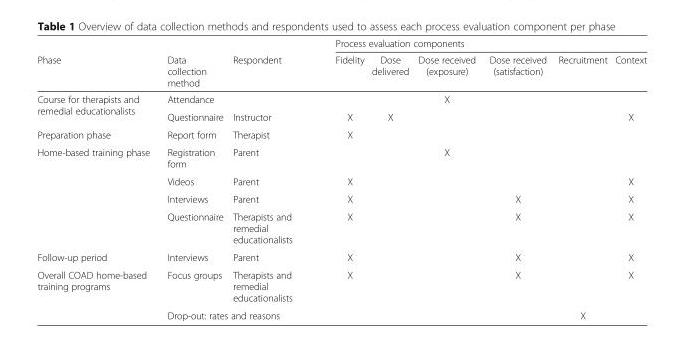table: (36, 37, 646, 320)
table column: (36, 37, 157, 320), (227, 37, 313, 320), (157, 37, 227, 320), (481, 37, 551, 320), (412, 37, 481, 320), (551, 37, 610, 320), (313, 37, 367, 320), (367, 37, 412, 320), (610, 37, 646, 320)
table column header: (36, 37, 646, 90)
table row: (36, 207, 646, 248), (36, 265, 646, 306), (36, 51, 646, 90), (36, 143, 646, 172), (36, 107, 646, 125), (36, 125, 646, 143), (36, 189, 646, 207), (36, 90, 646, 107), (36, 172, 646, 189), (36, 248, 646, 265), (36, 37, 646, 51), (36, 306, 646, 320)
table spanning cell: (36, 143, 157, 248), (36, 265, 157, 320), (36, 37, 157, 90), (313, 37, 646, 51), (227, 37, 313, 90), (36, 90, 157, 125), (157, 37, 227, 90), (157, 90, 313, 107), (157, 306, 313, 320)
